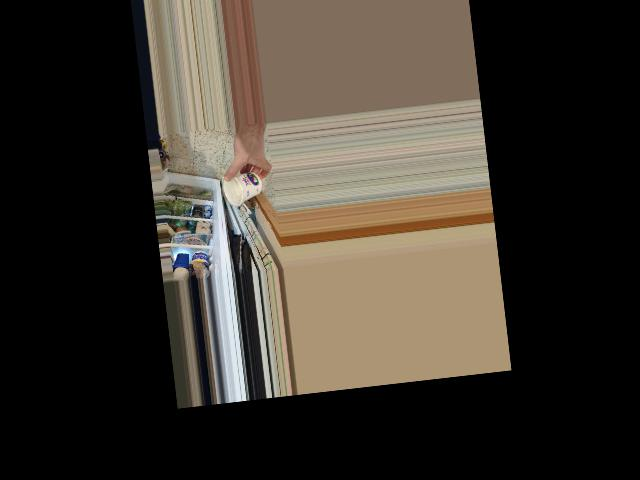cotage: (229, 167, 263, 207)
